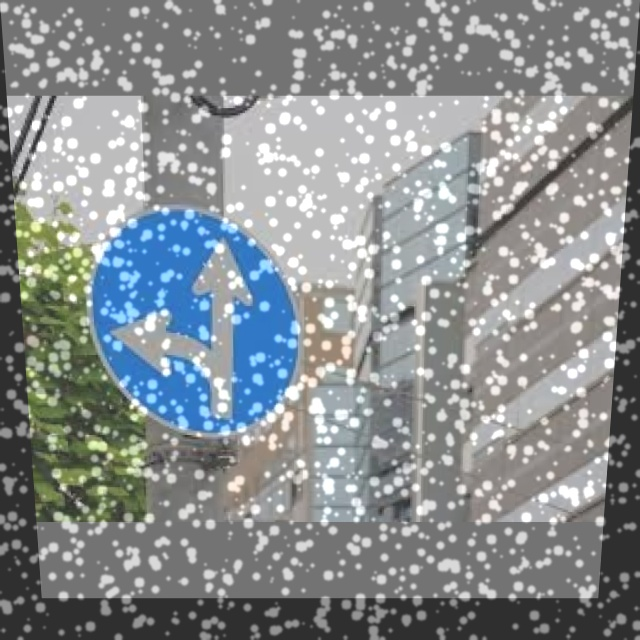Compulsory_Ahead_or_Turn_Left: (82, 202, 306, 428)
